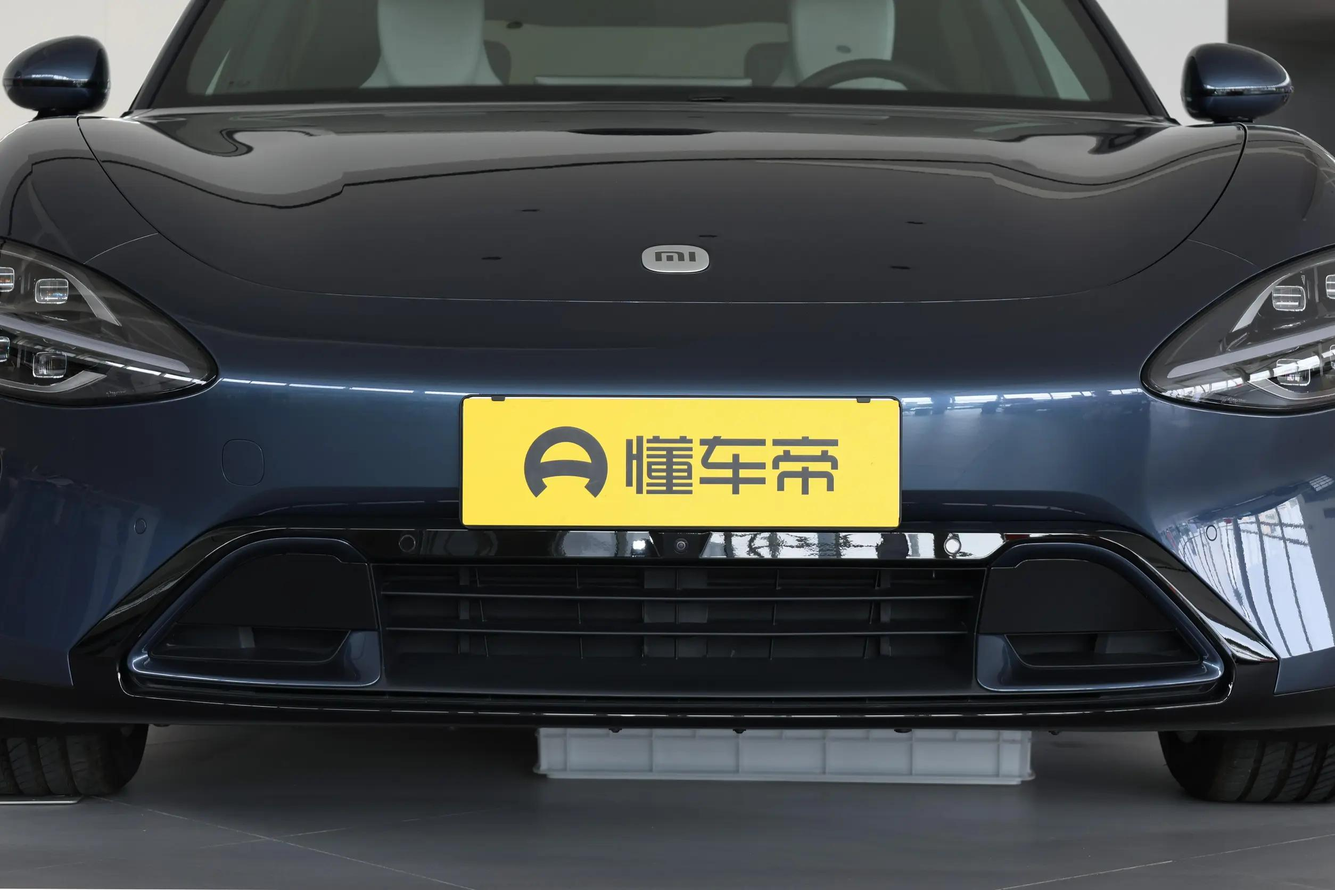XIAOMI: (642, 245, 709, 273)
